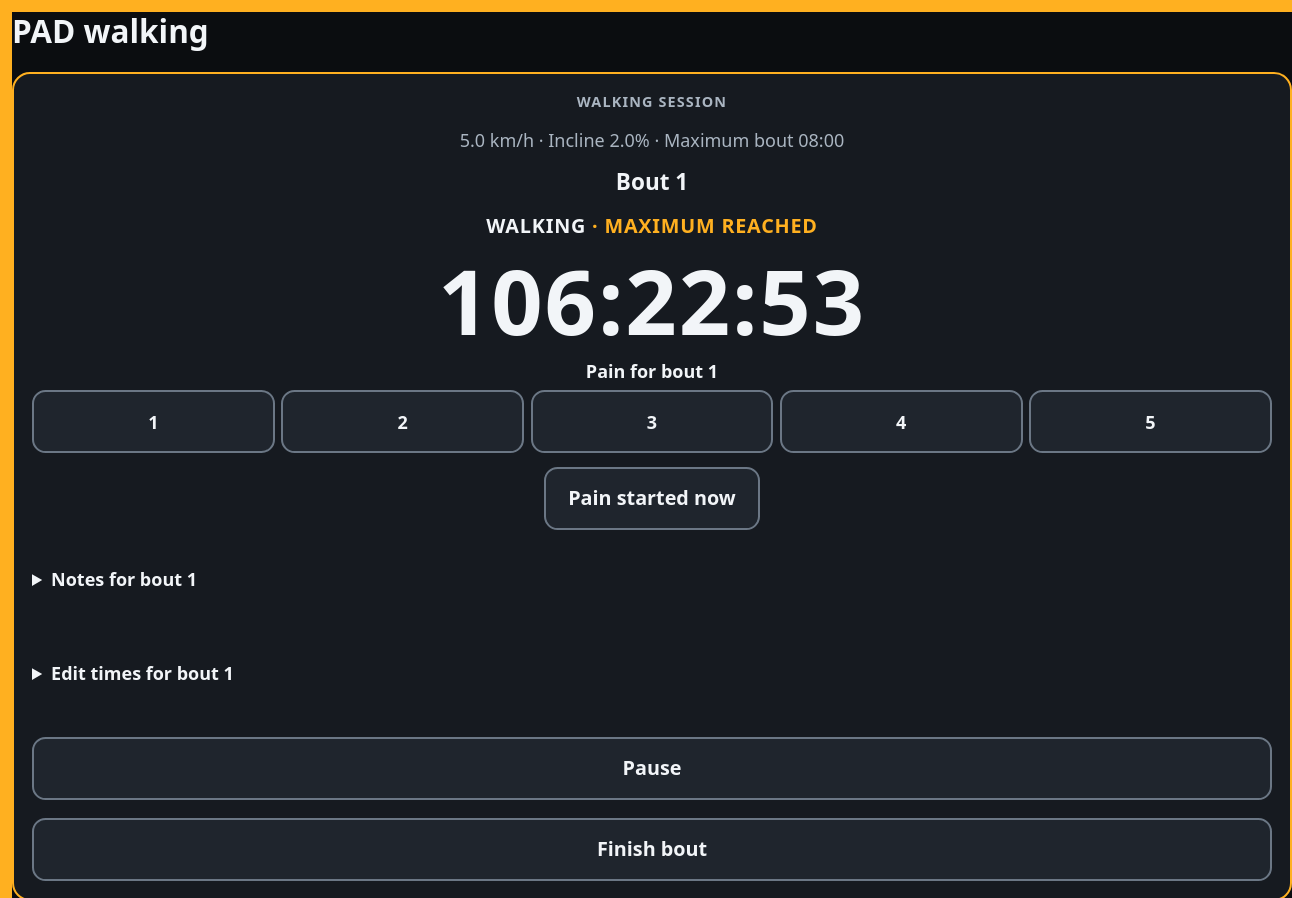
PAD walking controls › does not apply stale Pause to another tab's next bout
Check: the text "Walking" is shown, box [486, 212, 586, 239]
Click the button "Pause": [652, 768] box [32, 737, 1272, 800]
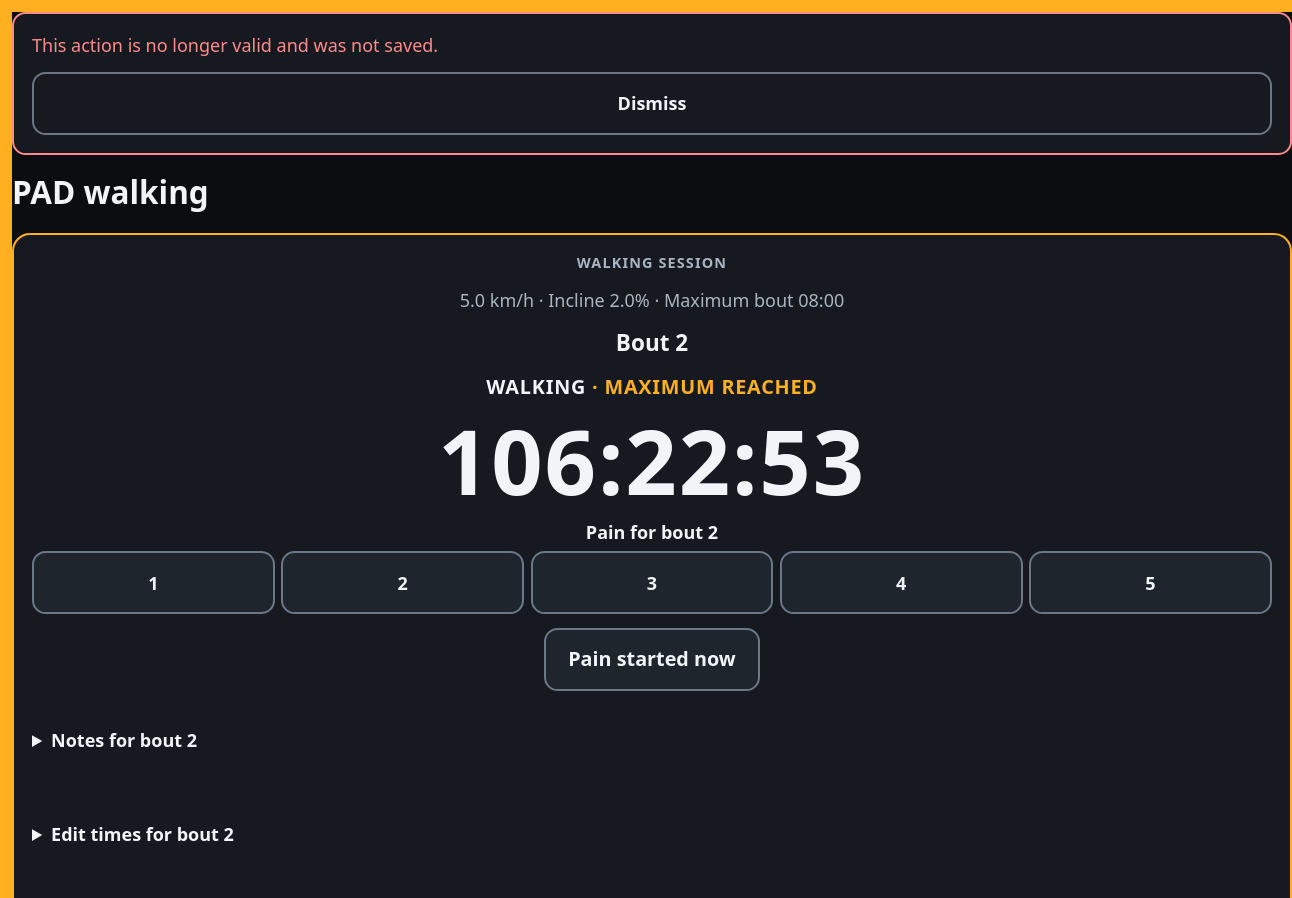
Check: the message "This action is no longer valid and was not saved. Dismiss" is shown, box [12, 12, 1291, 155]
